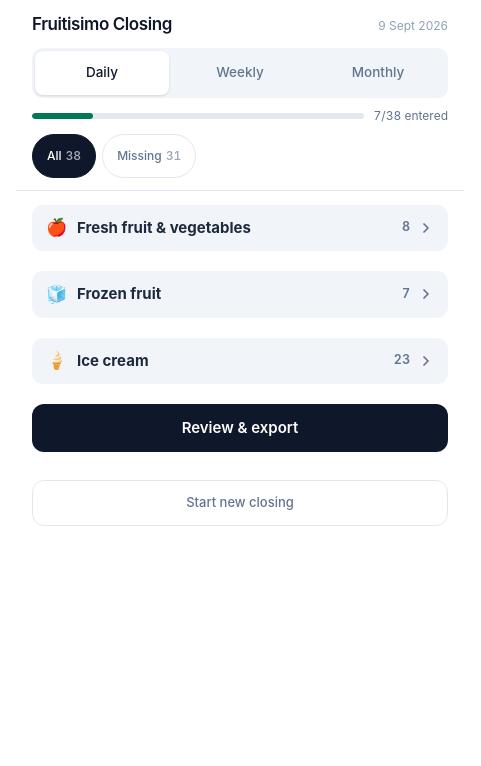
Test case: the Missing filter › says so when a whole group is finished, instead of an empty box
This screenshot has width=481, height=766.
Click the button "Missing31": {"x": 149, "y": 156} [102,134,196,178]
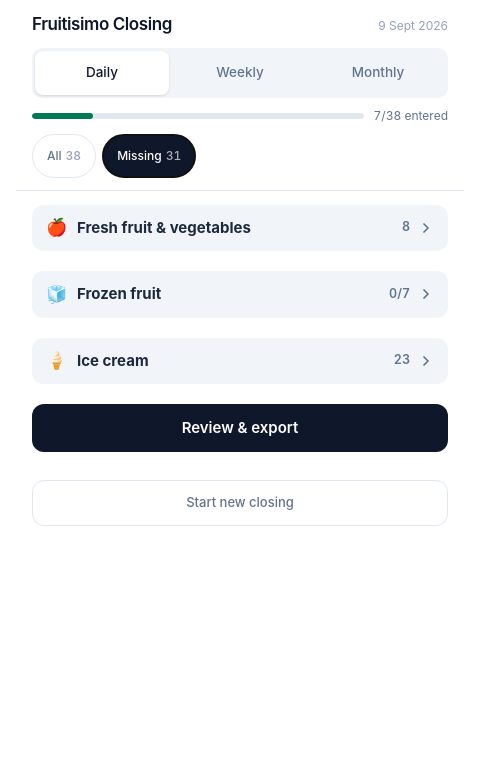
Click the button "🧊 Frozen fruit 0/7": {"x": 119, "y": 294} [32,271,448,318]
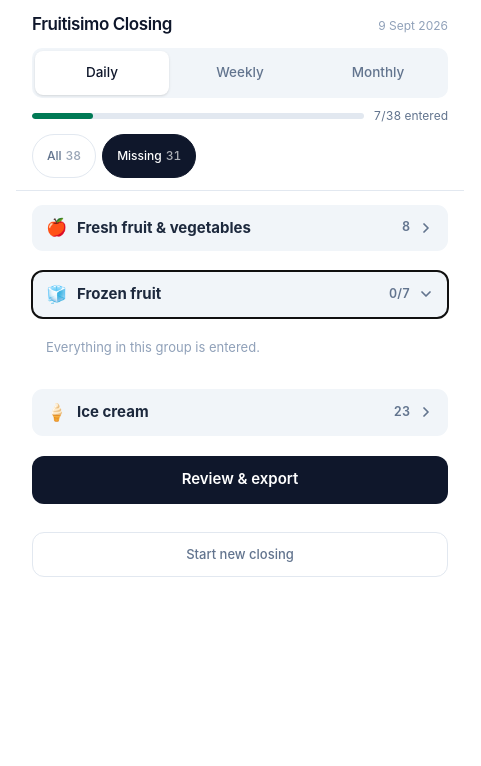
Click the button "🍎 Fresh fruit & vegetables 8": {"x": 240, "y": 228} [32,204,448,251]
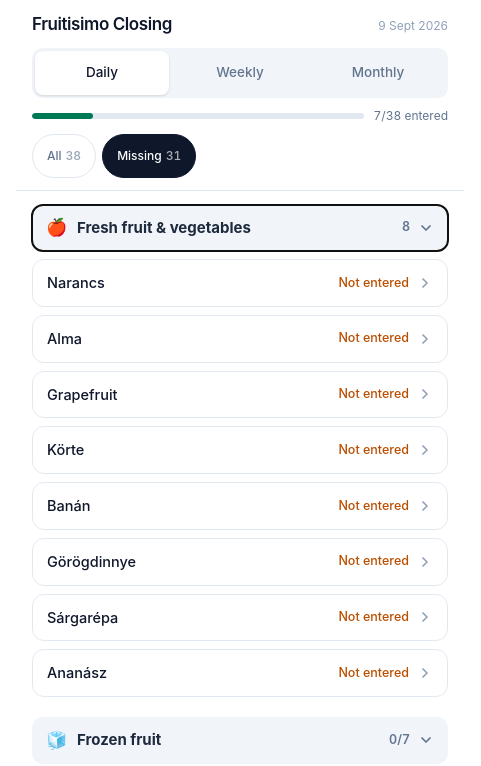
Check: the button "Alma Not entered" is shown, box [33,316,447,362]
